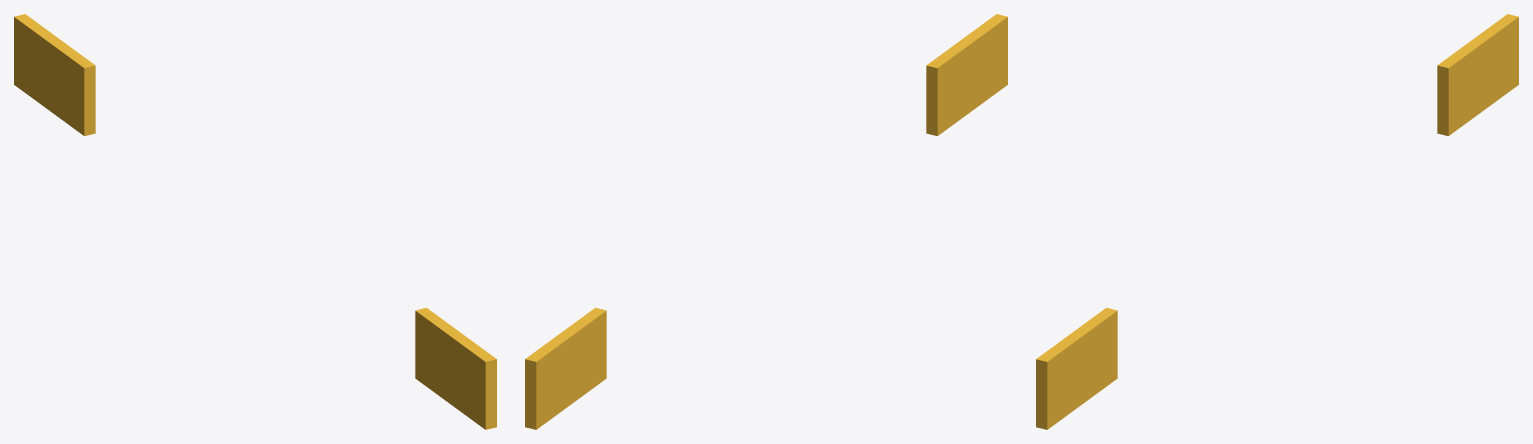
Rendered from FrontLights2Bulb.glb.
3 renders of one model, left to right at view 1: azimuth 30°, elevation 25°; view 2: azimuth 150°, elevation 25°; view 3: azimuth 330°, elevation 25°, orthographic.
Parts seen in each view (by area): view 1: Cube.114; view 2: Cube.114; view 3: Cube.114.
Boxes of the visible parts, bbox=[...] form: Cube.114: bbox=[14, 14, 496, 429]; Cube.114: bbox=[525, 14, 1007, 429]; Cube.114: bbox=[1036, 14, 1518, 429].
Size of the model in its own units: 0.0006 by 0.00344 by 0.0432.
1 material, 1 textured.
